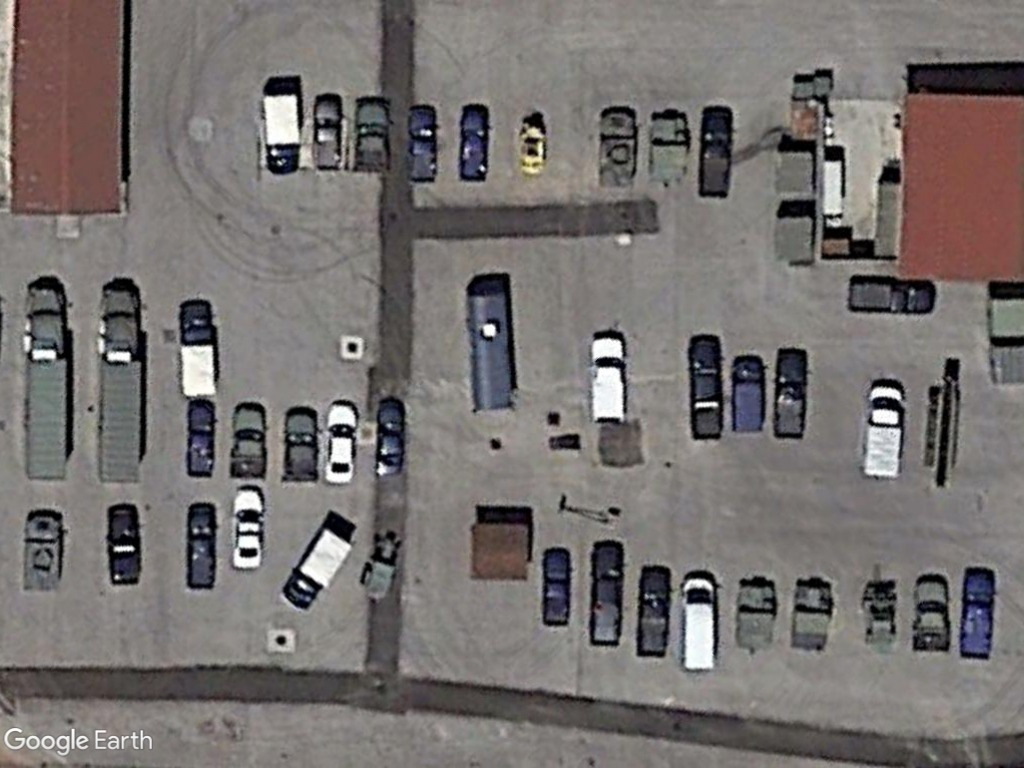car: (229, 484, 269, 576), (323, 400, 361, 488)
longvehicle: (94, 282, 150, 490), (22, 282, 77, 484), (463, 277, 521, 414)
other: (687, 334, 727, 442), (955, 565, 999, 663), (589, 539, 627, 650), (696, 103, 737, 202), (22, 508, 67, 596), (771, 344, 811, 441), (846, 278, 938, 317), (351, 96, 396, 175), (910, 573, 953, 655), (635, 566, 672, 659), (105, 503, 145, 587), (185, 500, 221, 590), (281, 406, 321, 486), (230, 402, 269, 483), (539, 545, 575, 631), (403, 104, 441, 185), (373, 397, 409, 479), (308, 95, 345, 173), (456, 105, 492, 184), (184, 401, 219, 479)
truck: (280, 527, 356, 619), (859, 375, 909, 483), (175, 300, 221, 399), (258, 89, 306, 180)
van: (586, 333, 632, 426), (679, 572, 720, 674), (731, 351, 769, 438)
